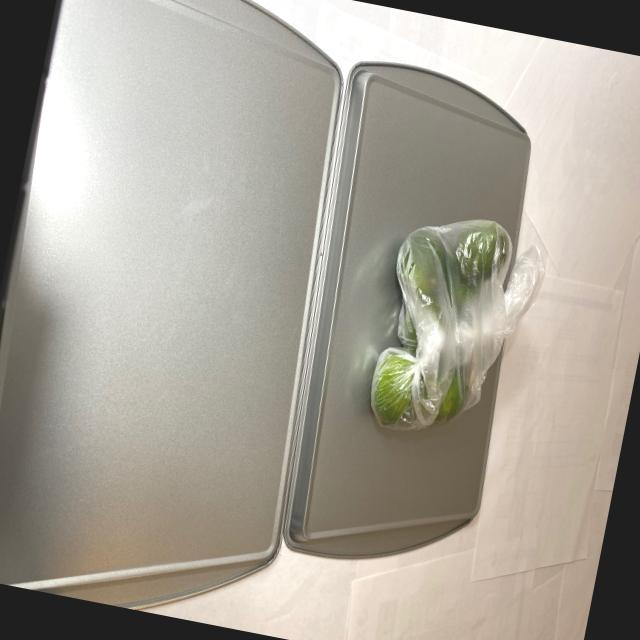lemon: (363, 194, 527, 450)
